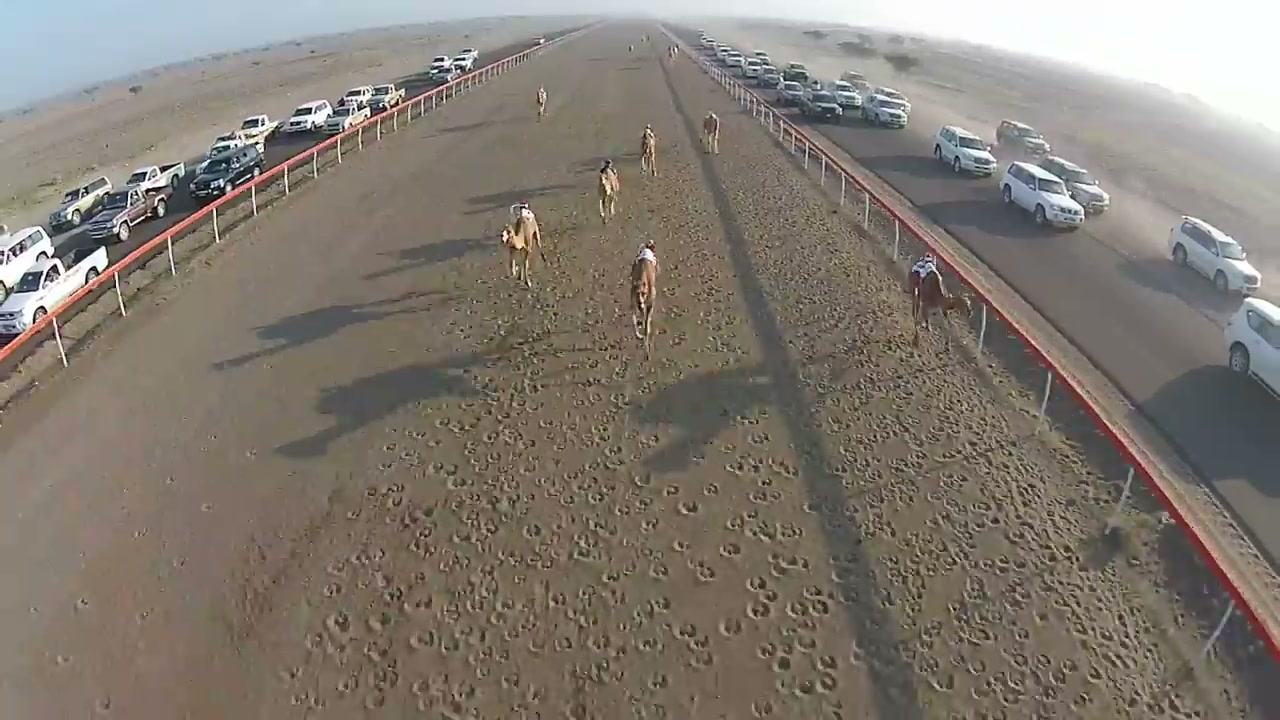animal_footprint: (274, 107, 1247, 719)
